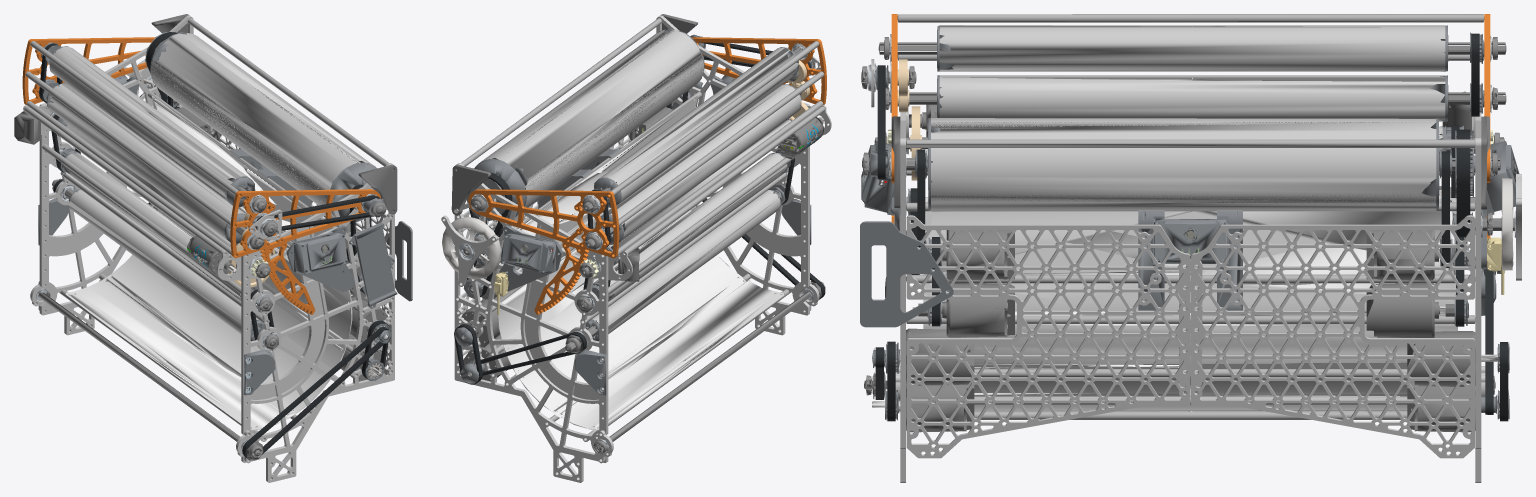
Rendered from shooter-581-donor.glb.
3 renders of one model, left to right at view 1: azimuth 30°, elevation 25°; view 2: azimuth 150°, elevation 25°; view 3: azimuth 270°, elevation 25°, orthographic. The views are drawn at different scales.
Parts seen in each view (by area): view 1: frame, hood, flywheel; view 2: frame, hood, flywheel; view 3: frame, hood, flywheel.
Part boxes in pixels (bbox=[...]): frame: bbox=[14, 14, 412, 482]; hood: bbox=[22, 37, 381, 314]; flywheel: bbox=[145, 32, 386, 223]; frame: bbox=[441, 14, 831, 482]; hood: bbox=[468, 36, 826, 314]; flywheel: bbox=[466, 28, 705, 220]; frame: bbox=[860, 14, 1521, 482]; hood: bbox=[861, 14, 1506, 238]; flywheel: bbox=[862, 118, 1500, 210].
Size of the model in its own units: 0.3348 by 0.5164 by 0.7234.
